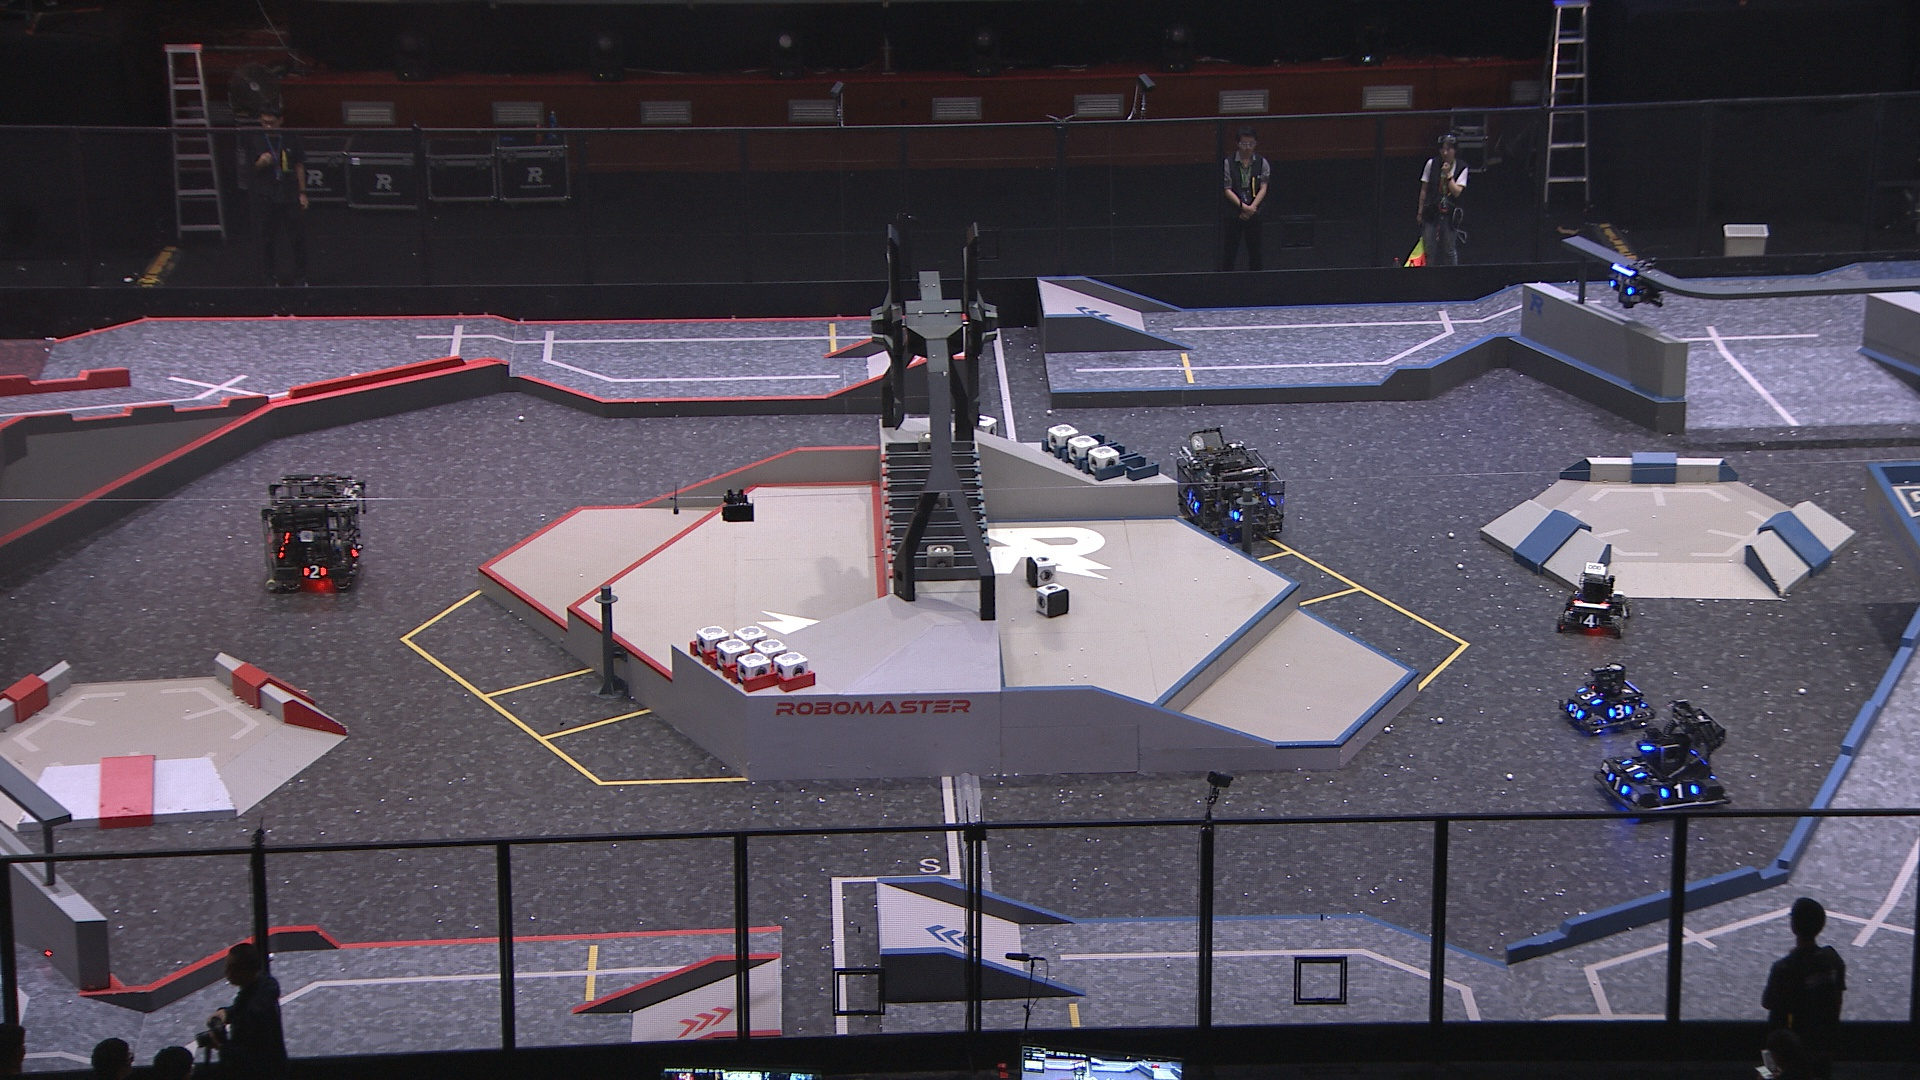armor: (1659, 782, 1698, 803), (301, 562, 328, 583), (1623, 760, 1648, 782), (1576, 687, 1604, 705), (1607, 773, 1631, 794), (1607, 703, 1633, 721), (1607, 281, 1634, 295), (1567, 703, 1584, 723), (1577, 615, 1602, 628), (1185, 495, 1203, 512), (1229, 509, 1247, 524), (1621, 604, 1629, 621)
car: (1596, 698, 1737, 818), (258, 471, 375, 597), (1174, 427, 1283, 545), (1556, 662, 1655, 737), (1556, 560, 1636, 637)
watcher: (1605, 256, 1669, 310)
